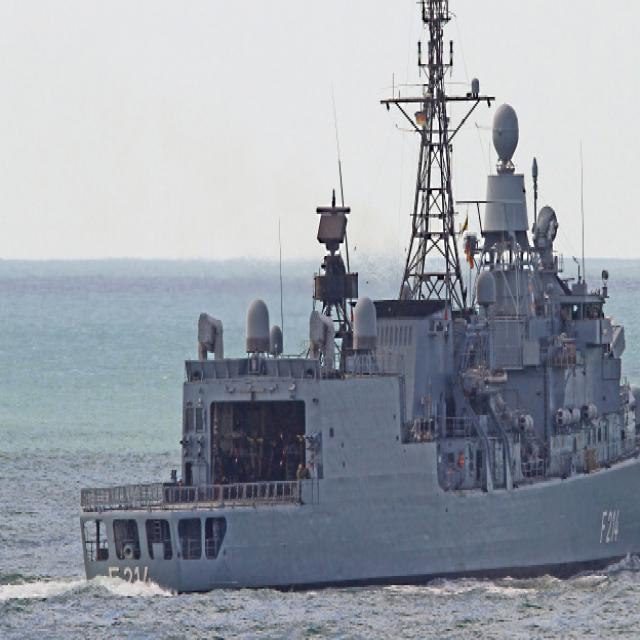Fragata: (79, 1, 640, 603)
